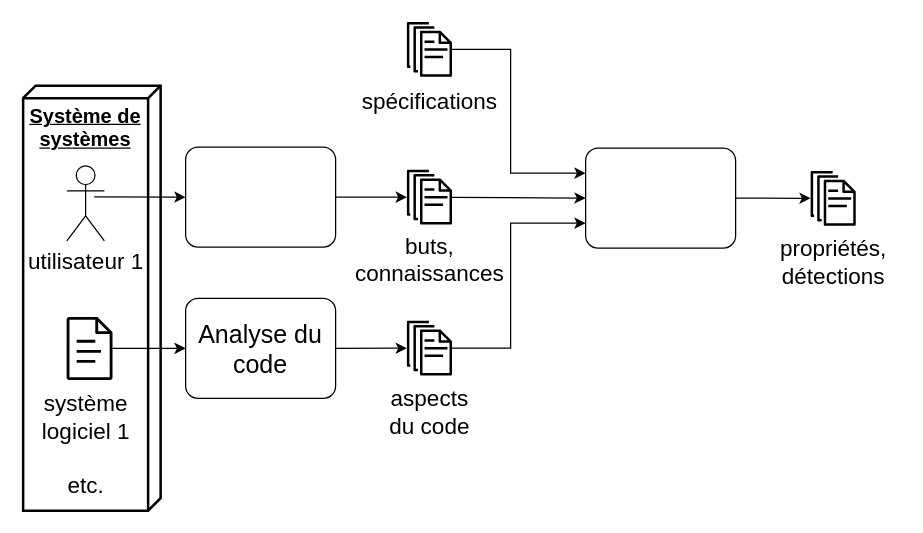
Some shapes in this 923 by 533 pixel diagram are drawn without their labels. Here are the shapes that lost their labels. From the top down, the centre of each, then its label:
At (x=260, y=196): "Conception, API".
At (x=660, y=197): "Moteur d'inférence".
